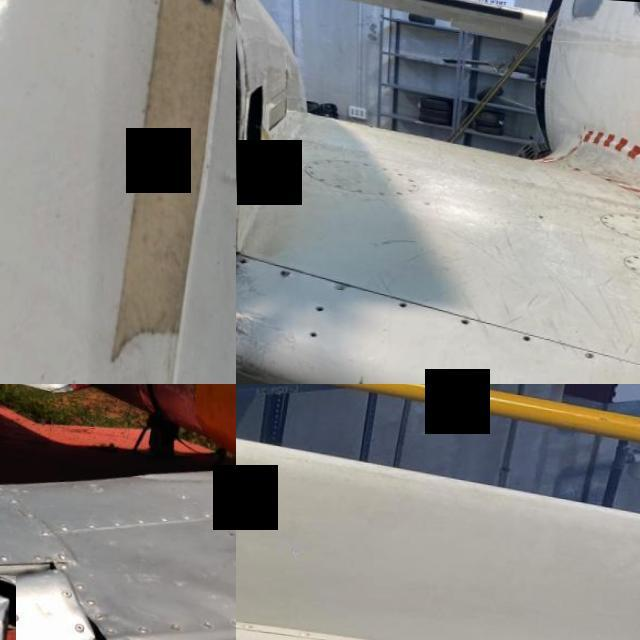Missing_Fastener: (522, 330, 533, 338), (308, 329, 320, 336), (396, 300, 408, 306), (460, 315, 470, 322), (314, 304, 324, 310), (238, 260, 246, 264)
